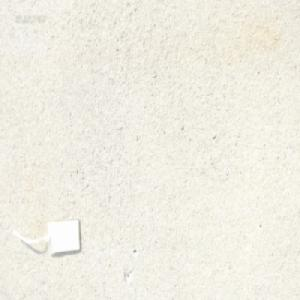LuggageTag: (11, 216, 83, 259)
